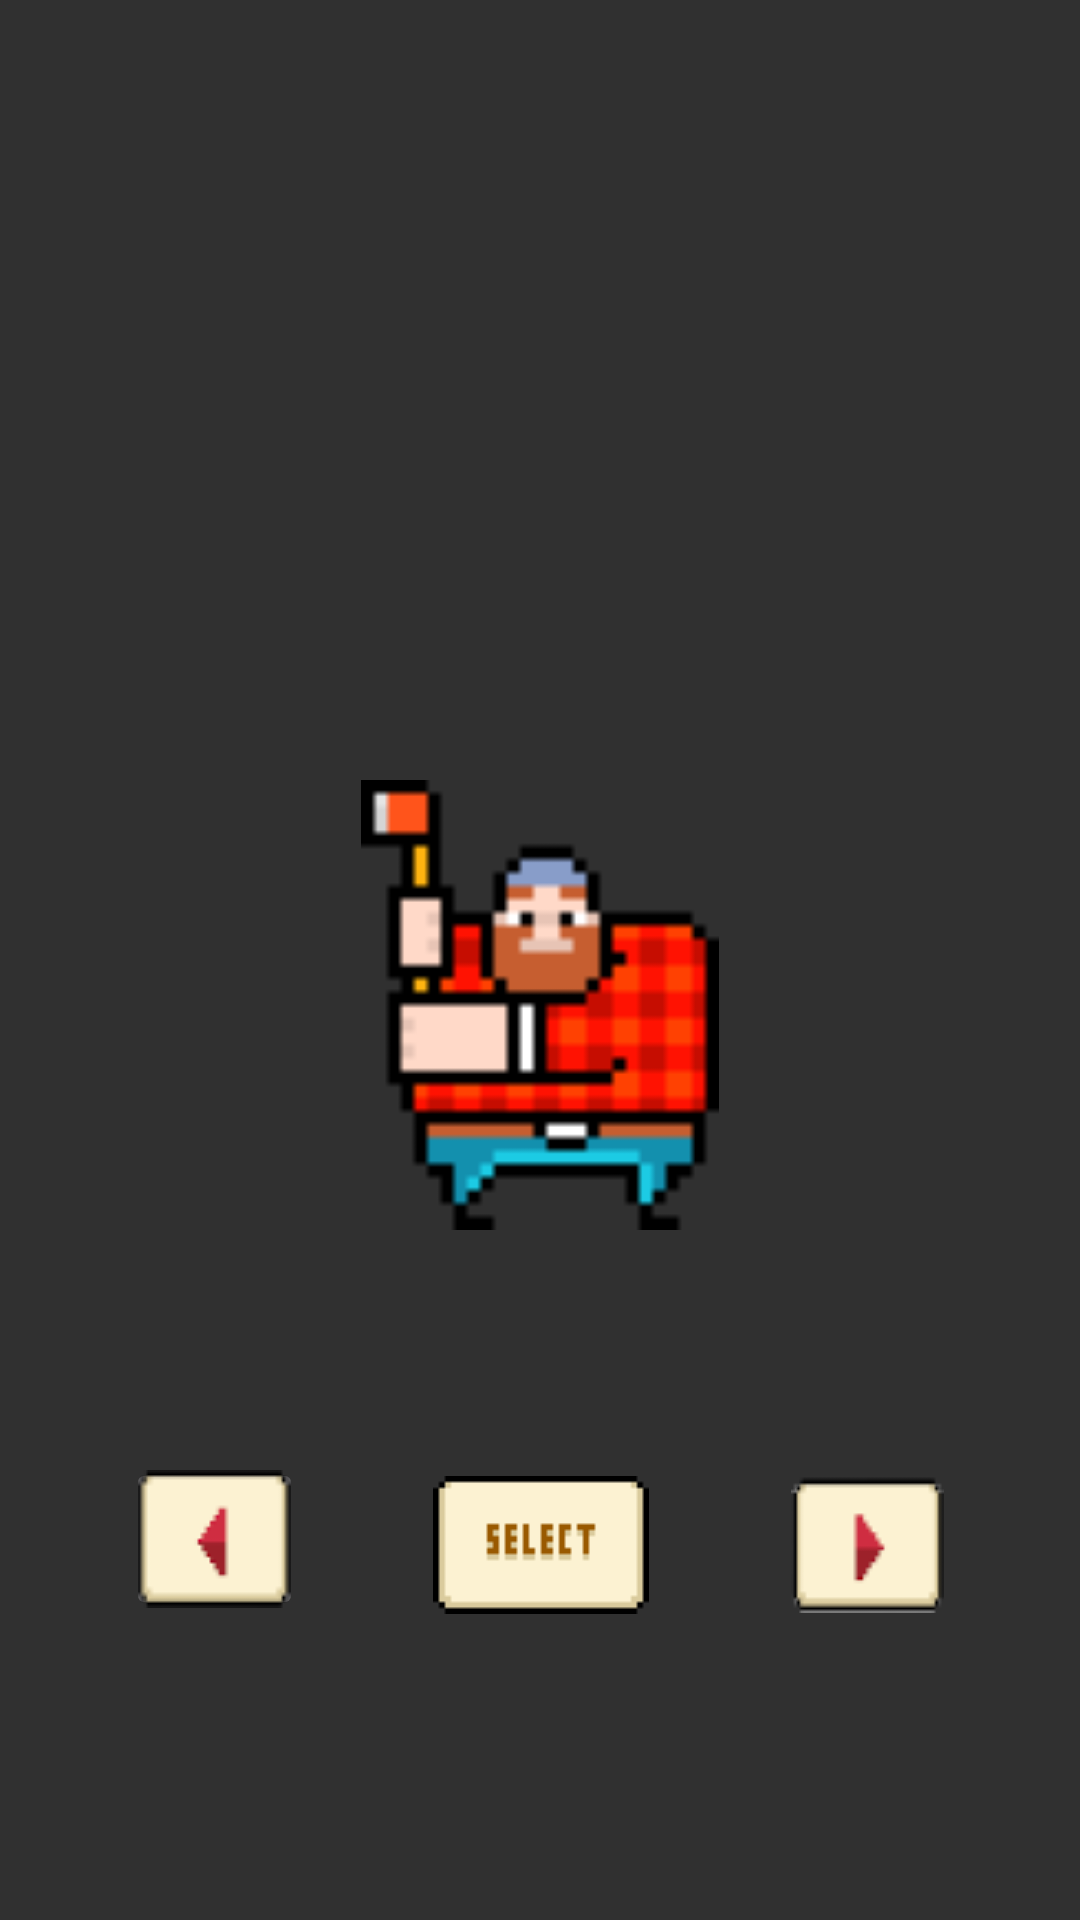

Locate icon controls on the screen. Image size 1080px x 1920px, boxes as BBox(x1, y1, x2, y2).
back: BBox(138, 1470, 291, 1608)
next: BBox(791, 1480, 942, 1613)
